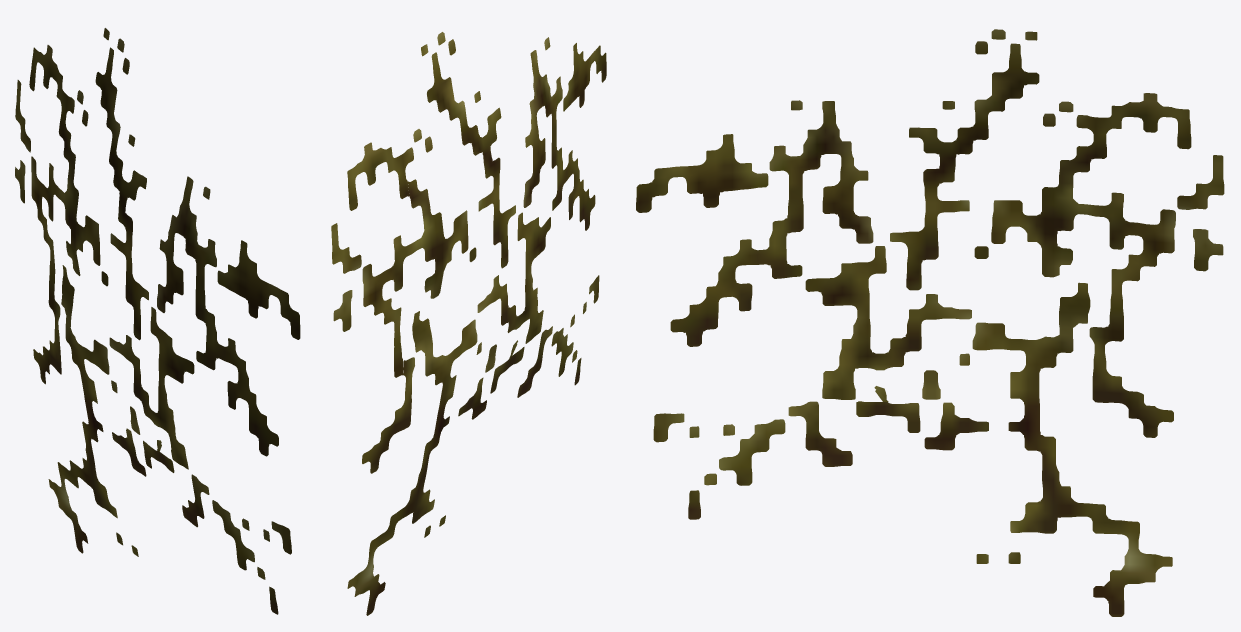
The model's file is ObjMD_Grass_Wall_Long_A.FBX.
3 renders of one model, left to right at view 1: azimuth 30°, elevation 25°; view 2: azimuth 150°, elevation 25°; view 3: azimuth 270°, elevation 25°, orthographic. The views are drawn at different scales.
Parts seen in each view (by area): view 1: ObjMD_Grass_Wall_Long_A; view 2: ObjMD_Grass_Wall_Long_A; view 3: ObjMD_Grass_Wall_Long_A.
Boxes of the visible parts, box(x1,y1,x2,y2) form: ObjMD_Grass_Wall_Long_A: box(15, 28, 300, 614); ObjMD_Grass_Wall_Long_A: box(331, 32, 606, 615); ObjMD_Grass_Wall_Long_A: box(636, 29, 1224, 616).
Size of the model in its own units: 18.23 by 244 by 219.
